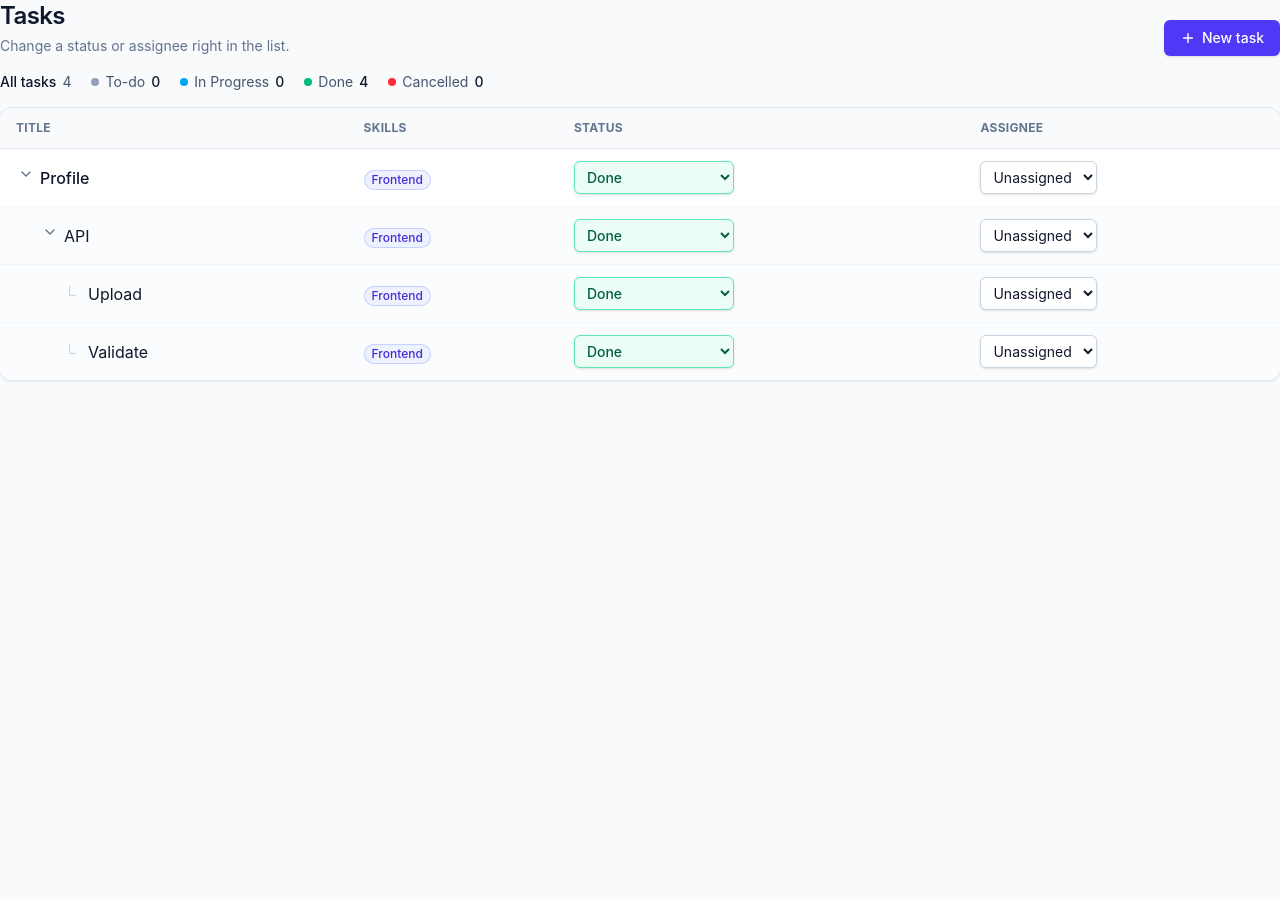
Test case: TaskListPage tree › asks before reopening a subtask of Done parents, and Cancel changes nothing
This screenshot has width=1280, height=900.
Select "To-do" in the 5th dropdown at (654, 294), box [574,277,734,310]
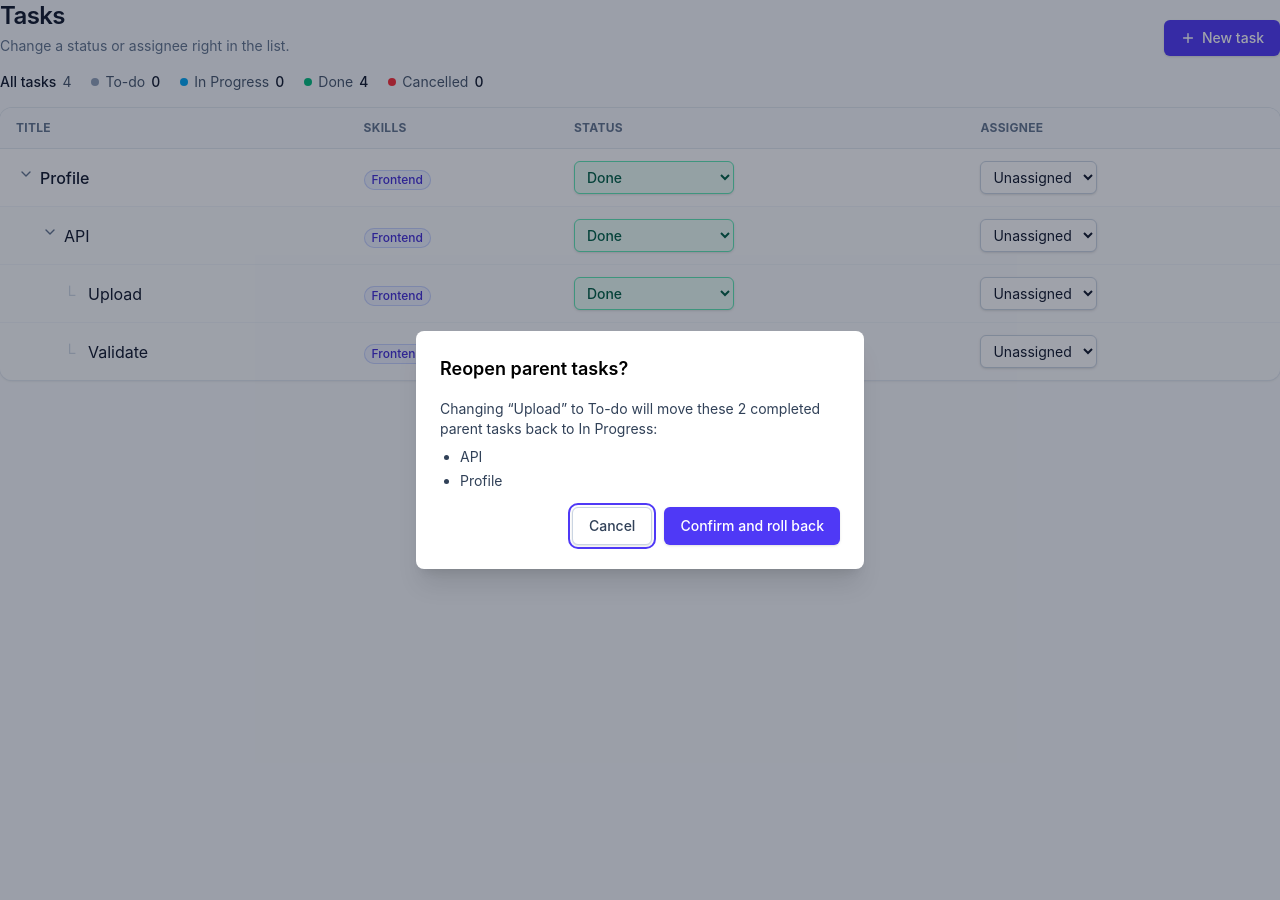
Result: the dialog "Reopen parent tasks?" shows "Changing “Upload” to To-do will move these 2 completed parent tasks back to In Progress:" at [416,331,864,569]
Result: the list items read "API", "Profile", in this order at [460,448,482,465]; [460,472,502,489]
Click the button "Cancel".
click(612, 526)  # box [572,507,652,545]
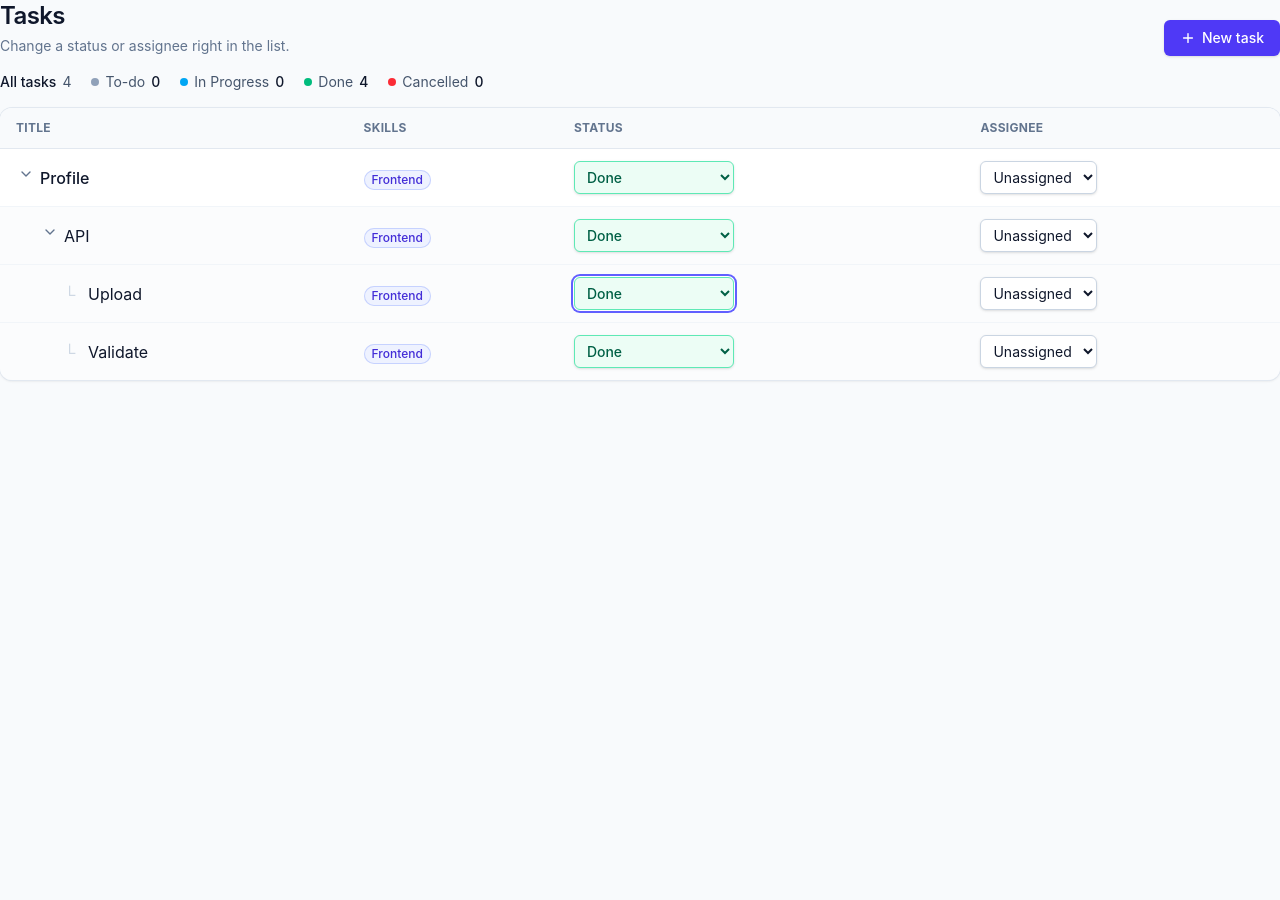
Result: the dialog is gone
